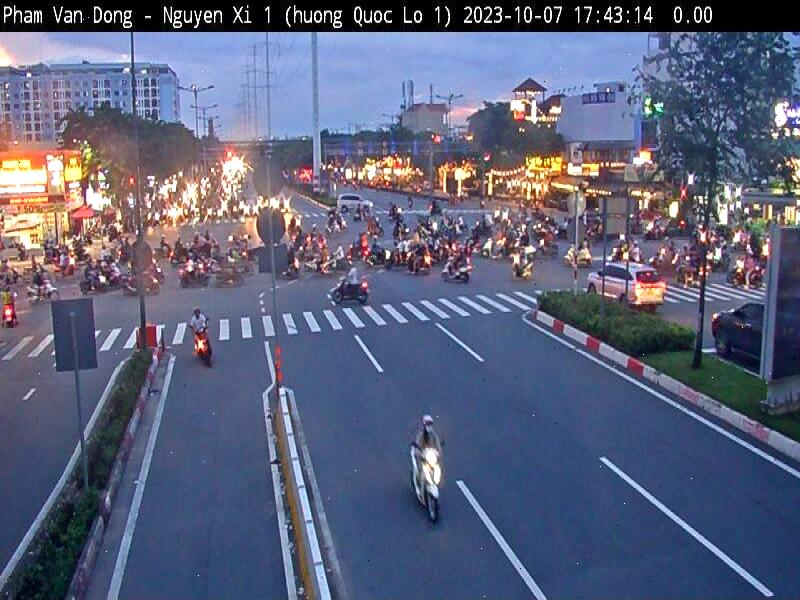car: (584, 248, 667, 312), (708, 291, 766, 382), (328, 181, 369, 230)
